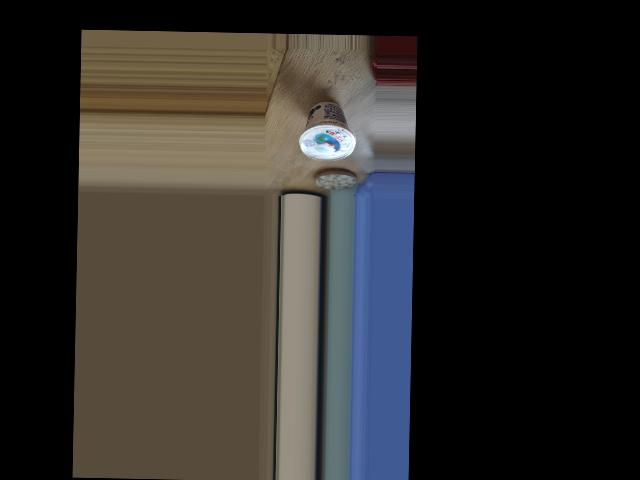cotage: (296, 91, 347, 163)
